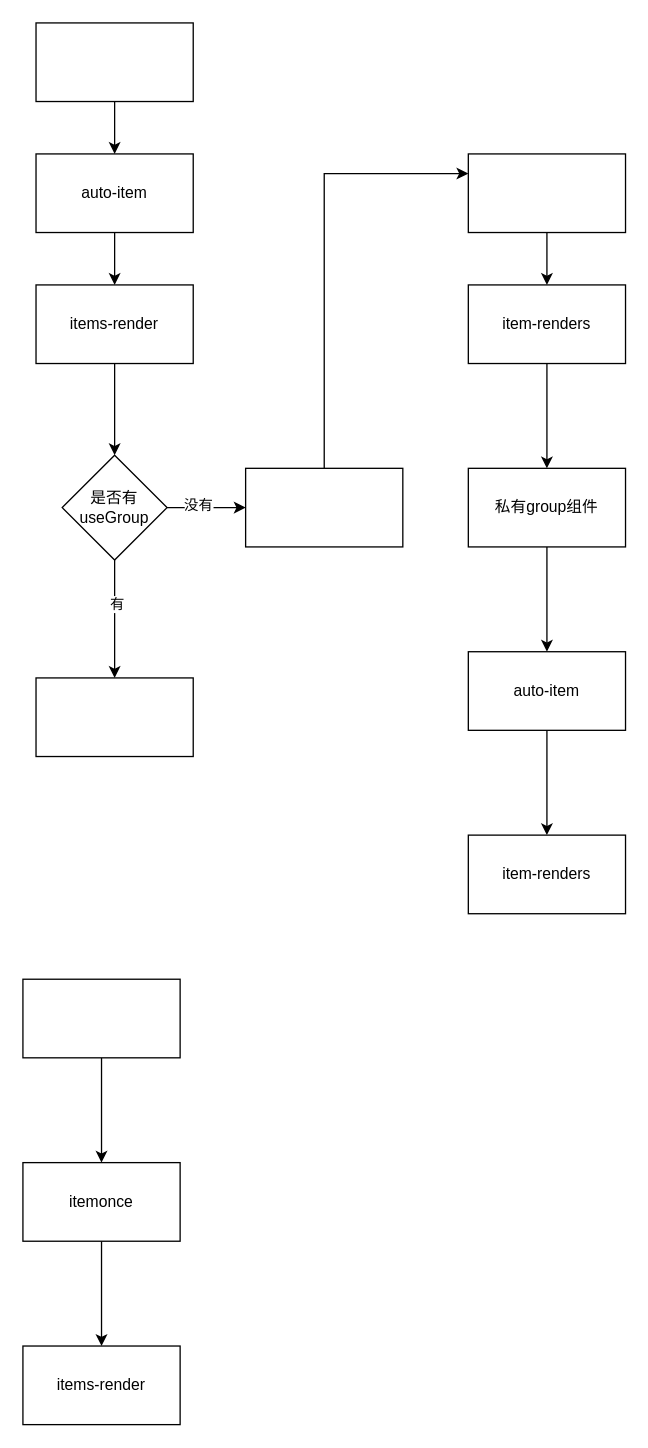
This 648x1448 diagram has some shape labels left out. The shapes that lost their labels are listed below. From the top down, each one's centre as x and y in pixels, then its label:
At (114,62): "edit".
At (546,193): "私有itemonce".
At (323,507): "替换渲染".
At (114,717): "查找对应的组件 edit/play".
At (101,1018): "play".
